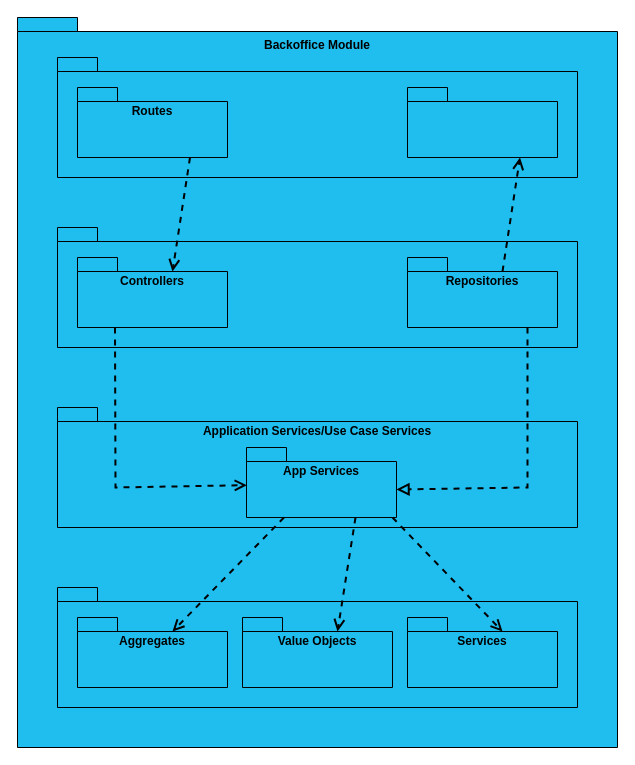
This 635x765 diagram has some shape labels left out. Each missing label, with the box of its shape:
Core: (56, 586, 578, 708)
Infrastructure: (56, 56, 578, 178)
Interface Adapters: (56, 226, 578, 348)
Persistence: (406, 86, 558, 158)
